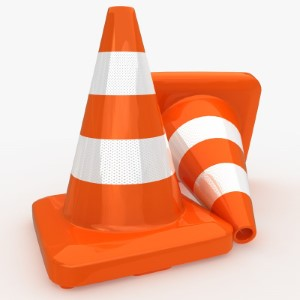traffic cone: (32, 6, 233, 289), (140, 72, 262, 244)
